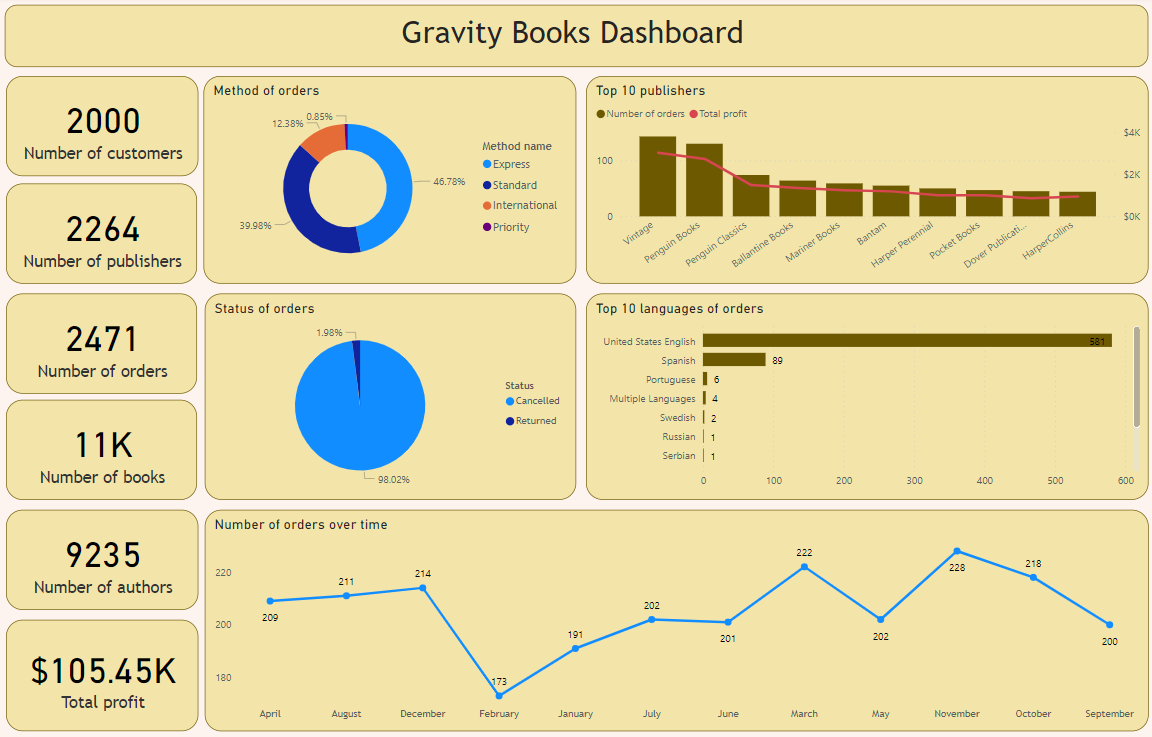

What the dashboard file says about the page in this screenshot:
{"tool":"powerbi","page":{"name":"Gravity_Books_Dashboard","canvas":[1400,900],"ordinal":0},"visuals":[{"type":"card","fields":{"Values":["# Measures.Number of customers"]},"box":[12.1,96.5,232.2,120.6],"z":0},{"type":"card","fields":{"Values":["# Measures.Total Orders"]},"box":[12.1,358.8,230.7,120.6],"z":1000},{"type":"card","title":"Total Profit","fields":{"Values":["# Measures.Total Cost"]},"box":[12.1,752.3,232.2,134.2],"z":2000},{"type":"textbox","box":[10.6,10.6,1379.4,75.4],"z":3000},{"type":"card","fields":{"Values":["# Measures.Number of books"]},"box":[12.1,486.9,230.7,120.6],"z":4000},{"type":"card","fields":{"Values":["# Measures.Number of publishers"]},"box":[12.1,226.1,230.7,120.6],"z":5000},{"type":"lineStackedColumnComboChart","title":"Top 10 publishers ","fields":{"Category":["DIM_publisher.publisher_name"],"Y":["# Measures.Total Orders"],"Y2":["# Measures.Total Cost"]},"box":[711.6,96.5,678.4,250.3],"z":6000},{"type":"donutChart","title":"Method of orders","fields":{"Y":["# Measures.Total Orders"],"Category":["DIM_shipping_method.method_name"]},"box":[250.3,96.5,449.2,250.3],"z":7000},{"type":"barChart","title":"Top 10 languages of orders","fields":{"Category":["DIM_language.language_name"],"Y":["# Measures.Total Orders"]},"box":[711.6,358.8,678.4,248.7],"z":8000},{"type":"pieChart","title":"Status of orders","fields":{"Y":["Count(FACT_order_status.order_bk)"],"Category":["DIM_status.status_value"]},"box":[251.8,358.8,447.7,248.7],"z":9000},{"type":"lineChart","title":"Number of orders over time","fields":{"Y":["# Measures.Total Orders"],"Category":["DimDate.Year","DimDate.MonthName"]},"box":[251.8,619.6,1138.2,266.8],"z":10000},{"type":"card","fields":{"Values":["# Measures.Number of authors"]},"box":[12.1,619.6,232.2,120.6],"z":11000}]}

Visuals, with their boxes in screenshot pixels (x1, y1, x2, y2), scaled from the page's 1400x900 canvas onto the 1152x737 screenshot:
card - # Measures.Number of customers: [10,79,201,178]
card - # Measures.Total Orders: [10,294,200,393]
"Total Profit" card: [10,616,201,726]
textbox: [9,9,1144,70]
card - # Measures.Number of books: [10,399,200,497]
card - # Measures.Number of publishers: [10,185,200,284]
"Top 10 publishers " lineStackedColumnComboChart: [586,79,1144,284]
"Method of orders" donutChart: [206,79,576,284]
"Top 10 languages of orders" barChart: [586,294,1144,497]
"Status of orders" pieChart: [207,294,576,497]
"Number of orders over time" lineChart: [207,507,1144,726]
card - # Measures.Number of authors: [10,507,201,606]
